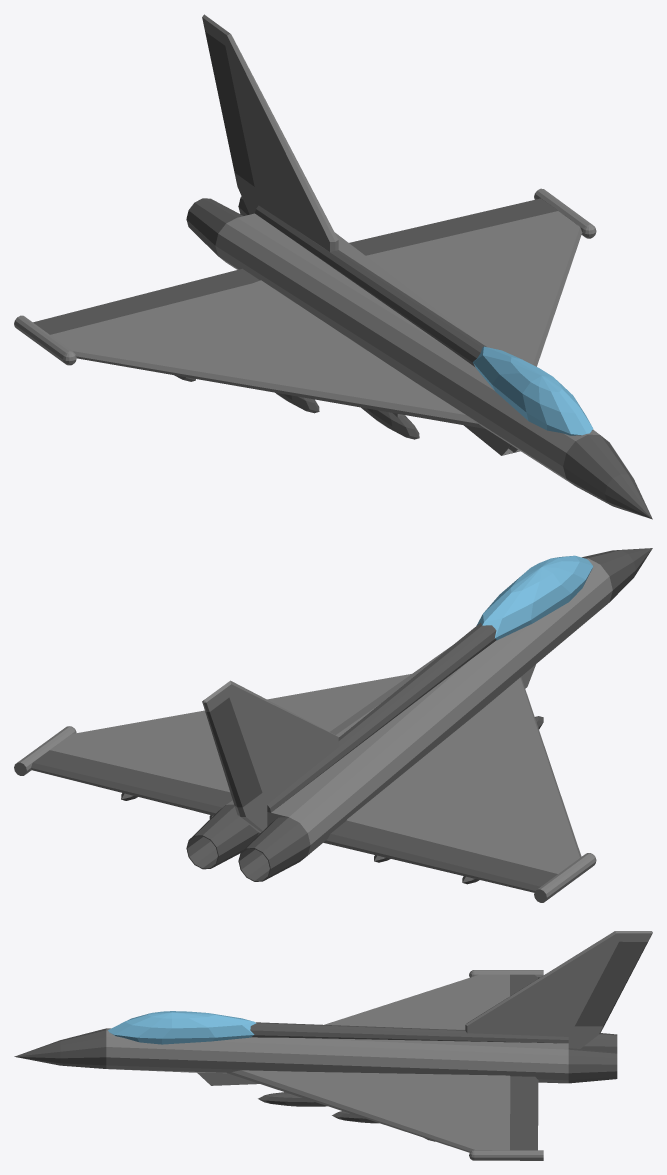
The model's file is MSI-Jet.fbx.
3 renders of one model, top to bottom at view 1: azimuth 30°, elevation 25°; view 2: azimuth 150°, elevation 25°; view 3: azimuth 270°, elevation 25°, orthographic. The views are drawn at different scales.
Visible parts, largest first — view 1: Fuselage; view 2: Fuselage; view 3: Fuselage.
Boxes of the visible parts, x1=… form: Fuselage: x1=14, y1=14, x2=652, y2=519; Fuselage: x1=14, y1=548, x2=652, y2=902; Fuselage: x1=14, y1=931, x2=652, y2=1160.
Size of the model in its own units: 615 by 238 by 899.
